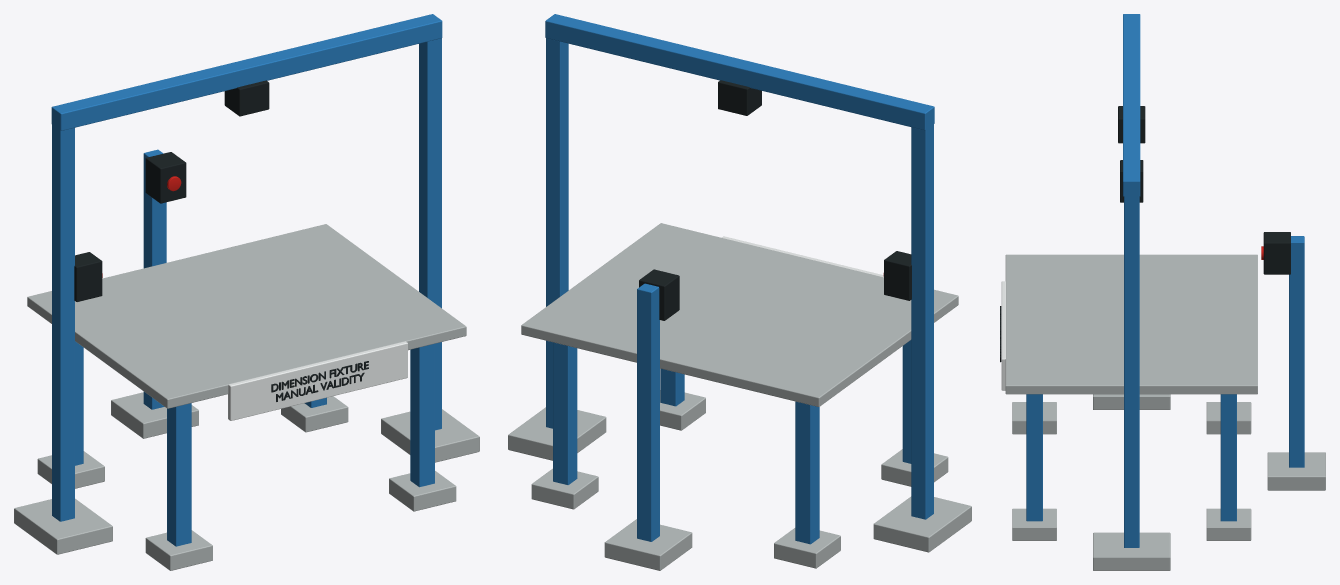
File: dimension_sensors.glb
3 renders of one model, left to right at view 1: azimuth 30°, elevation 25°; view 2: azimuth 150°, elevation 25°; view 3: azimuth 270°, elevation 25°, orthographic. The views are drawn at different scales.
Parts seen in each view (by area): view 1: DIMENSION_tabletop, DIMENSION_crossbeam, DIMENSION_portal_post_-0.98, DIMENSION_portal_post_0.98, DIMENSION_scope_plate, DIMENSION_table_leg_-0.65_-0.5, DIMENSION_table_leg_0.65_-0.5, DIMENSION_portal_foot_-0.98, DIMENSION_portal_foot_0.98, DIMENSION_rear_post, DIMENSION_rear_foot, DIMENSION_table_foot_-0.65_-0.5 (+8 smaller); view 2: DIMENSION_tabletop, DIMENSION_crossbeam, DIMENSION_portal_post_-0.98, DIMENSION_portal_post_0.98, DIMENSION_rear_post, DIMENSION_table_leg_-0.65_0.5, DIMENSION_table_leg_0.65_0.5, DIMENSION_portal_foot_-0.98, DIMENSION_rear_foot, DIMENSION_portal_foot_0.98, DIMENSION_table_foot_0.65_0.5, DIMENSION_table_foot_-0.65_0.5 (+7 smaller); view 3: DIMENSION_tabletop, DIMENSION_portal_post_0.98, DIMENSION_rear_post, DIMENSION_crossbeam, DIMENSION_portal_foot_0.98, DIMENSION_table_leg_0.65_0.5, DIMENSION_table_leg_0.65_-0.5, DIMENSION_rear_foot, DIMENSION_table_foot_0.65_0.5, DIMENSION_table_foot_0.65_-0.5, DIMENSION_head_Z, DIMENSION_portal_foot_-0.98 (+4 smaller).
Part boxes in pixels (x1,y1,x2,y2): DIMENSION_tabletop: (27, 224, 466, 408); DIMENSION_crossbeam: (51, 14, 442, 130); DIMENSION_portal_post_-0.98: (52, 113, 74, 521); DIMENSION_portal_post_0.98: (419, 38, 441, 430); DIMENSION_scope_plate: (228, 341, 407, 420); DIMENSION_table_leg_-0.65_-0.5: (167, 403, 191, 546); DIMENSION_table_leg_0.65_-0.5: (410, 343, 434, 487); DIMENSION_portal_foot_-0.98: (14, 498, 112, 554); DIMENSION_portal_foot_0.98: (381, 409, 479, 462); DIMENSION_rear_post: (143, 149, 166, 409); DIMENSION_rear_foot: (111, 392, 198, 438); DIMENSION_table_foot_-0.65_-0.5: (145, 530, 212, 570); DIMENSION_tabletop: (521, 223, 958, 406); DIMENSION_crossbeam: (545, 14, 934, 130); DIMENSION_portal_post_-0.98: (911, 113, 933, 519); DIMENSION_portal_post_0.98: (546, 38, 568, 428); DIMENSION_rear_post: (637, 283, 659, 541); DIMENSION_table_leg_-0.65_0.5: (795, 401, 819, 544); DIMENSION_table_leg_0.65_0.5: (553, 342, 577, 484); DIMENSION_portal_foot_-0.98: (873, 496, 971, 552); DIMENSION_rear_foot: (604, 519, 692, 570); DIMENSION_portal_foot_0.98: (508, 407, 606, 460); DIMENSION_table_foot_0.65_0.5: (531, 468, 598, 509); DIMENSION_table_foot_-0.65_0.5: (774, 528, 840, 568); DIMENSION_tabletop: (1005, 254, 1257, 394); DIMENSION_portal_post_0.98: (1124, 186, 1139, 547); DIMENSION_rear_post: (1289, 236, 1304, 467); DIMENSION_crossbeam: (1123, 14, 1140, 196); DIMENSION_portal_foot_0.98: (1093, 532, 1170, 570); DIMENSION_table_leg_0.65_0.5: (1220, 394, 1236, 521); DIMENSION_table_leg_0.65_-0.5: (1026, 394, 1042, 521); DIMENSION_rear_foot: (1267, 452, 1325, 490); DIMENSION_table_foot_0.65_0.5: (1206, 508, 1251, 540); DIMENSION_table_foot_0.65_-0.5: (1012, 508, 1056, 540); DIMENSION_head_Z: (1263, 232, 1290, 274); DIMENSION_portal_foot_-0.98: (1093, 394, 1170, 409).
Size of the model in its own units: 2.26 by 2.16 by 1.68.
